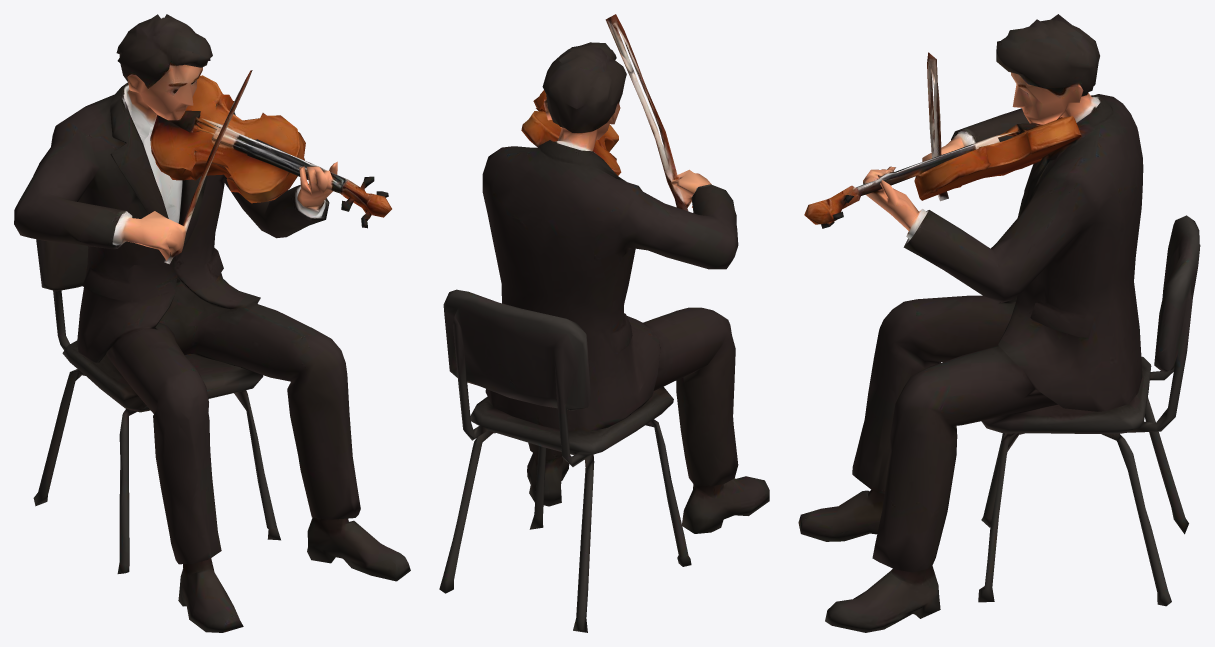
File: violist.glb
3 renders of one model, left to right at view 1: azimuth 30°, elevation 25°; view 2: azimuth 150°, elevation 25°; view 3: azimuth 270°, elevation 25°, orthographic. The views are drawn at different scales.
Parts seen in each view (by area): view 1: tripo_node_71771df5-422d-416f-ac73-34d79ac35522; view 2: tripo_node_71771df5-422d-416f-ac73-34d79ac35522; view 3: tripo_node_71771df5-422d-416f-ac73-34d79ac35522.
Part boxes in pixels (x1,y1,x2,y2): tripo_node_71771df5-422d-416f-ac73-34d79ac35522: [14, 14, 410, 632]; tripo_node_71771df5-422d-416f-ac73-34d79ac35522: [439, 14, 769, 632]; tripo_node_71771df5-422d-416f-ac73-34d79ac35522: [798, 14, 1200, 632].
Bounding box in the file's own units: 0.7439 × 1.25 × 0.8416.
1 material, 1 textured.
